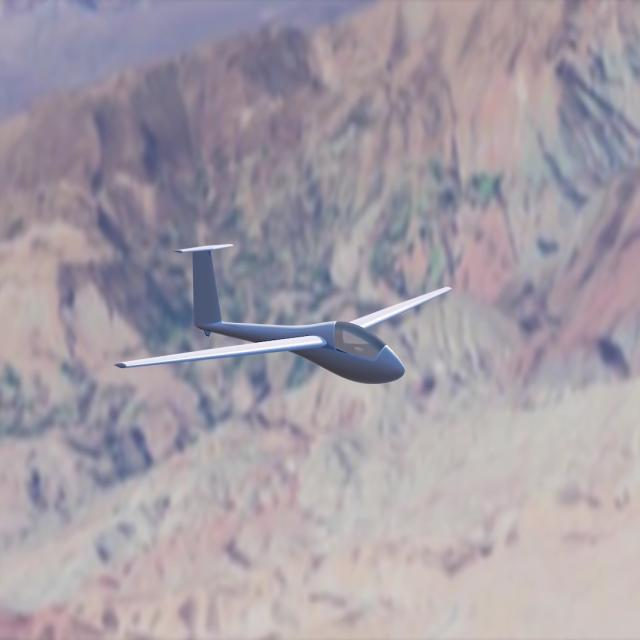iha: (121, 250, 454, 381)
